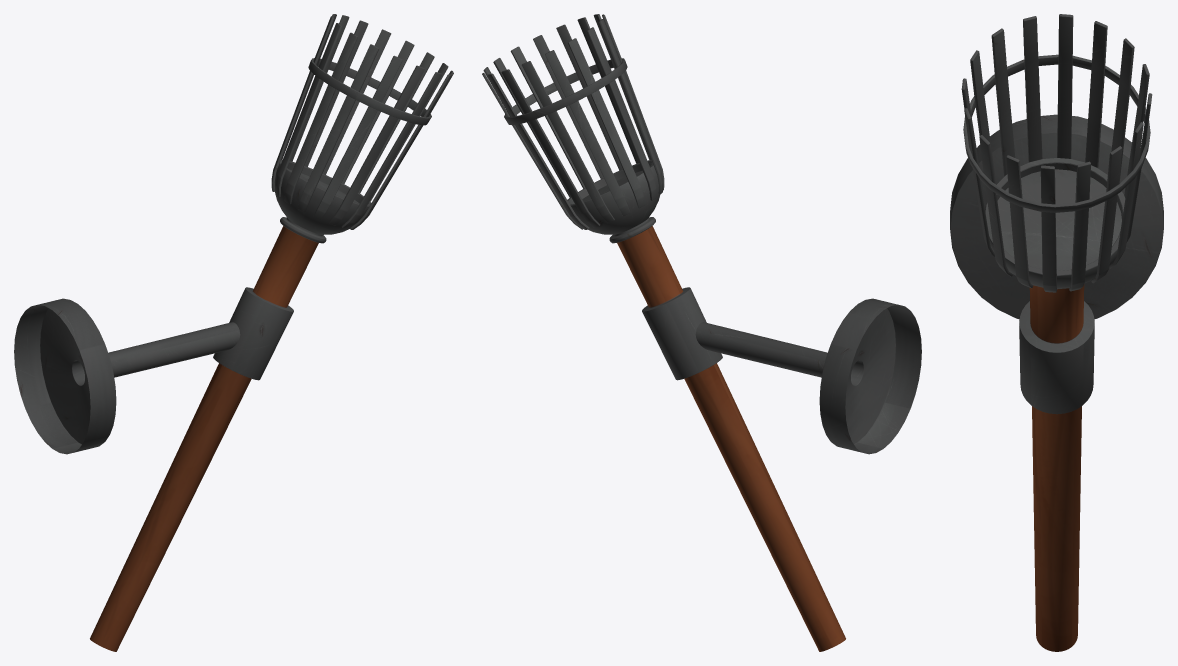
Rendered from Obor_texture.fbx.
The picture shows the model from 3 angles, left to right: view 1: azimuth 30°, elevation 25°; view 2: azimuth 150°, elevation 25°; view 3: azimuth 270°, elevation 25°; orthographic projection. The views are drawn at different scales.
Parts seen in each view (by area): view 1: obor; view 2: obor; view 3: obor.
Part boxes in pixels (box(x1,y1,x2,y2)): obor: box(14, 14, 453, 651); obor: box(482, 14, 921, 651); obor: box(950, 14, 1163, 651).
Size of the model in its own units: 870 by 1205 by 295.
Materials: 1 (1 with a texture image).
